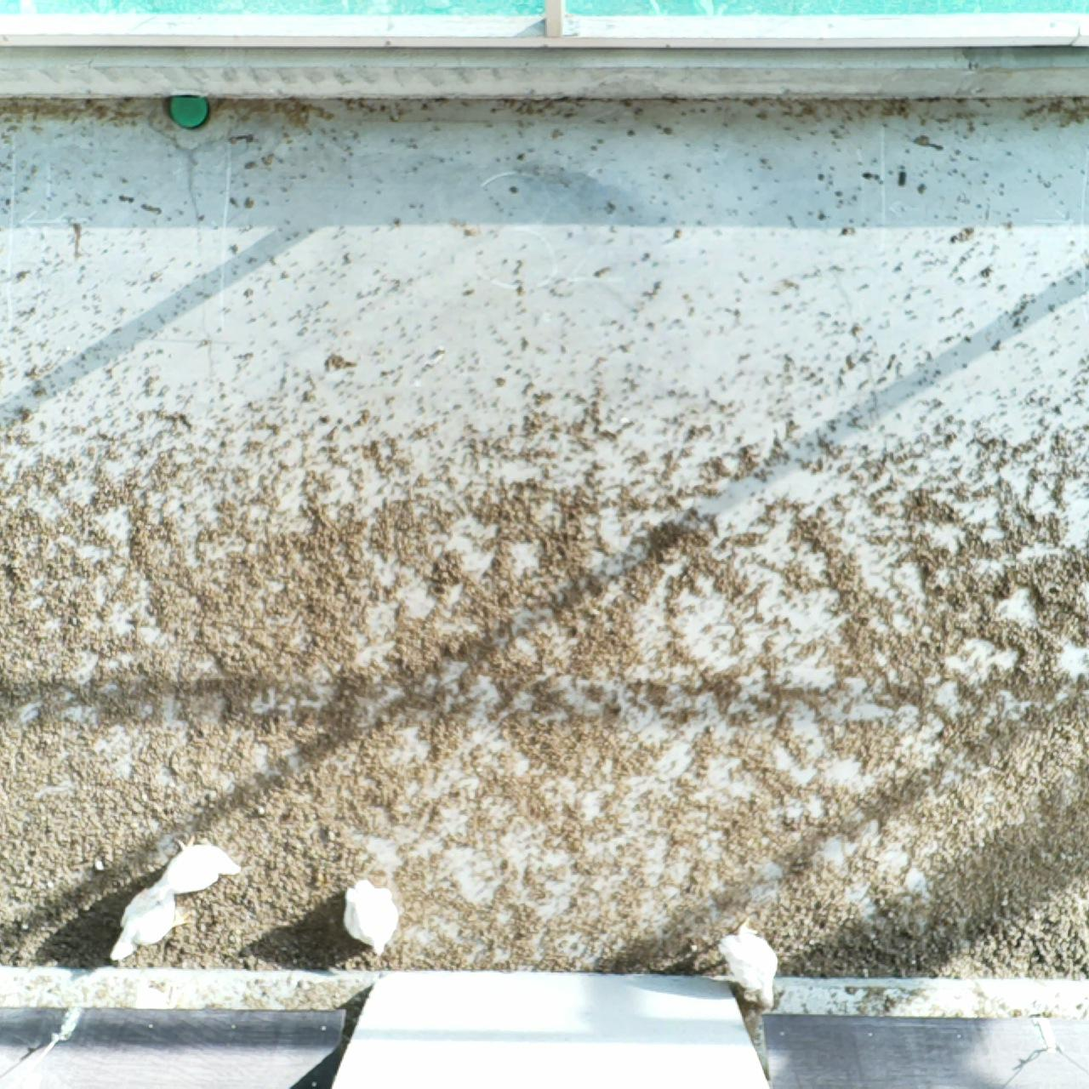chicken: (105, 879, 197, 967), (706, 915, 787, 1012), (150, 827, 241, 897), (338, 878, 404, 960)
